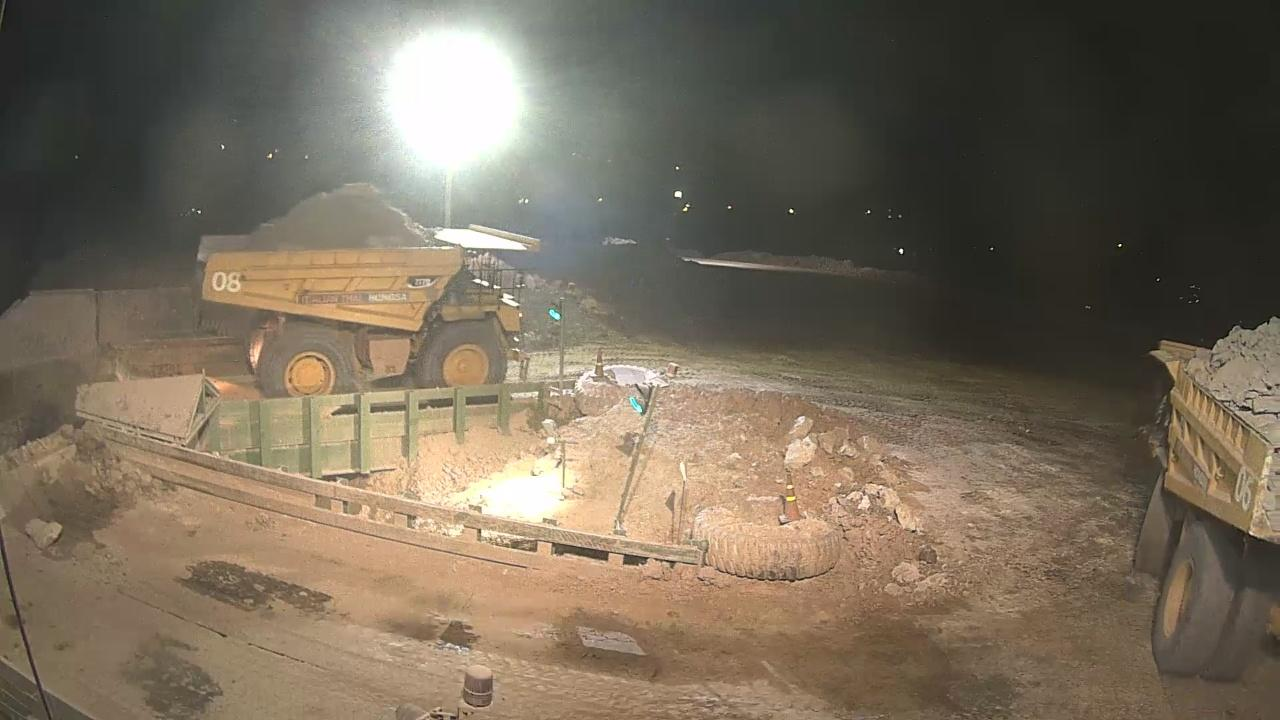full_load: (250, 181, 488, 266), (1180, 313, 1277, 432)
mining_truck: (186, 174, 558, 408), (1113, 298, 1280, 681)
tail_number: (1230, 461, 1258, 514), (209, 267, 246, 298)
